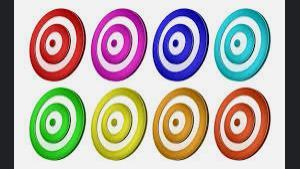target_red: (213, 86, 276, 162), (27, 6, 87, 83)
